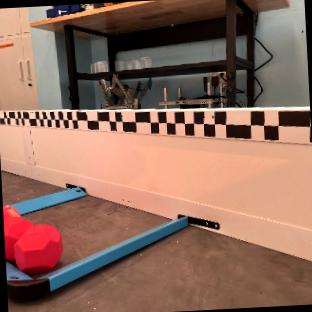V5_RED: (2, 206, 61, 274)
